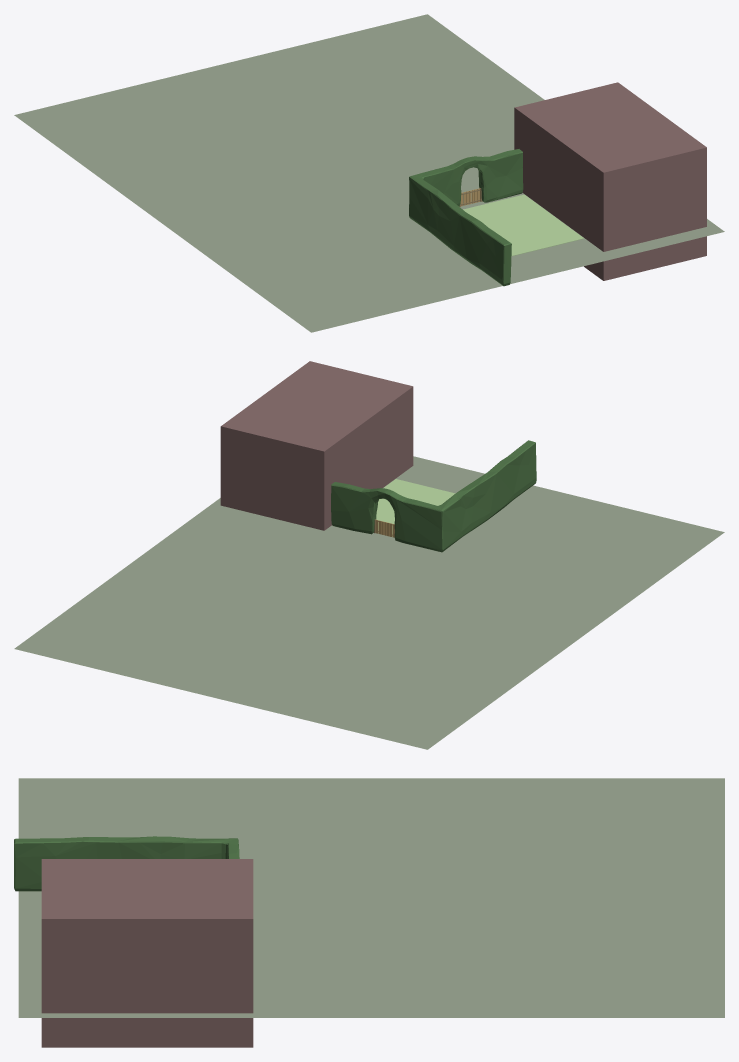
File: Omgeving Leaf me Alone.fbx
The picture shows the model from 3 angles, top to bottom: view 1: azimuth 30°, elevation 25°; view 2: azimuth 150°, elevation 25°; view 3: azimuth 270°, elevation 25°; orthographic projection. The views are drawn at different scales.
Parts seen in each view (by area): view 1: Plane, Cube, Heg low poly, Veld; view 2: Plane, Cube, Heg low poly, Veld; view 3: Plane, Cube, Heg low poly.
Part boxes in pixels (x1,y1,x2,y2): Plane: (14,14,724,332); Cube: (514,82,706,280); Heg low poly: (409,149,523,286); Veld: (463,194,583,256); Plane: (14,456,724,749); Cube: (220,361,413,530); Heg low poly: (331,440,536,552); Veld: (376,479,455,536); Plane: (18,778,724,1017); Cube: (41,859,253,1047); Heg low poly: (14,836,239,891).
Size of the model in its own units: 1997 by 500 by 2503.
